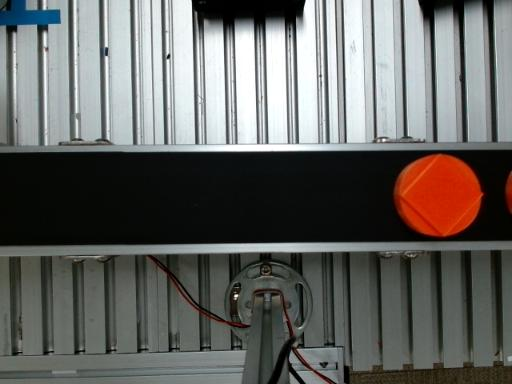Orange_Waper: (394, 154, 483, 237)
Square: (399, 154, 485, 238)
